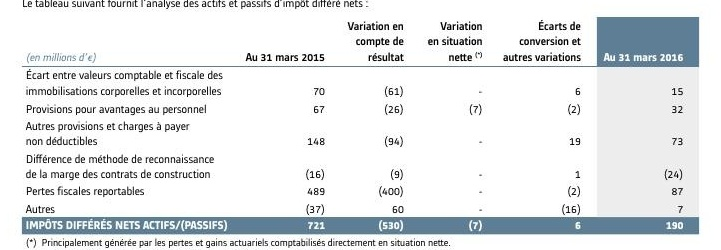table: (0, 0, 721, 250)
